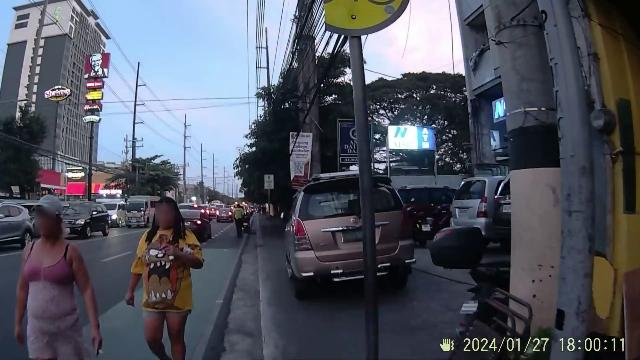utility_post: (122, 56, 152, 180)
